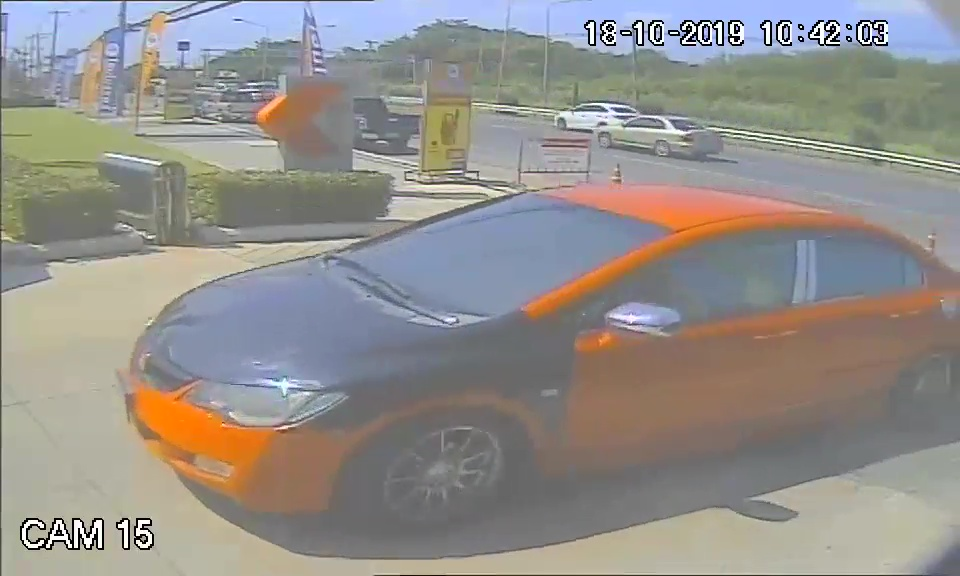sedan: (117, 174, 910, 527)
